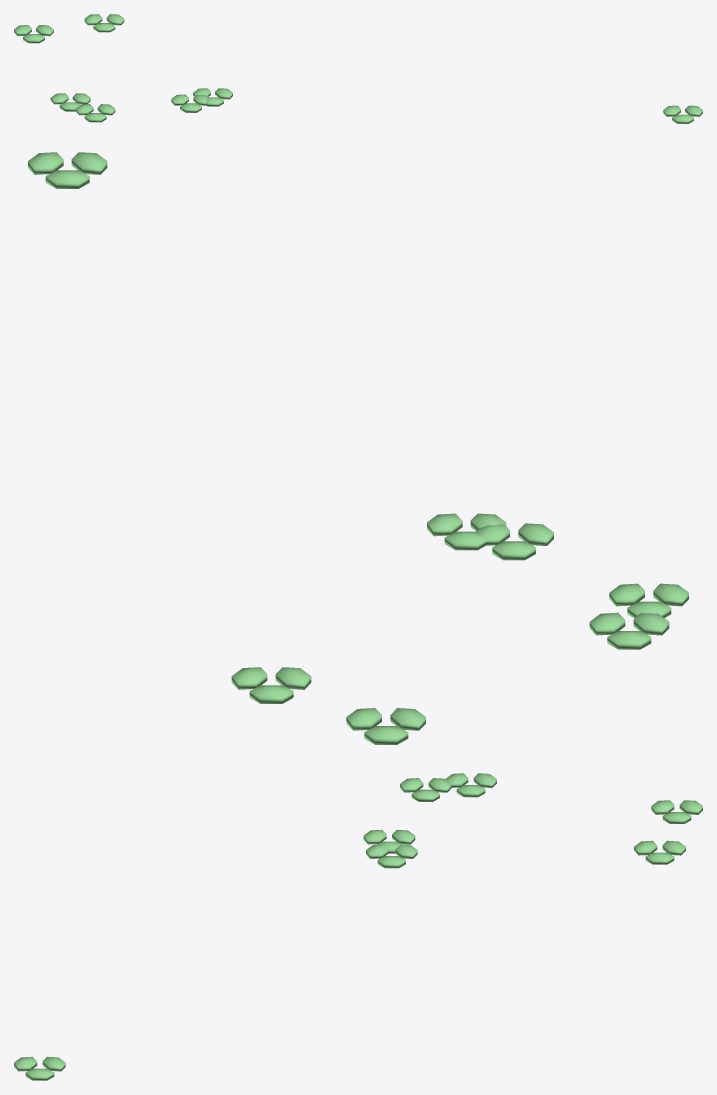
The model's file is layer_summer_sparse_low.glb.
3 views of the same model, one above another, from view 1: azimuth 30°, elevation 25°; view 2: azimuth 150°, elevation 25°; view 3: azimuth 270°, elevation 25° (orthographic). The views are drawn at different scales.
Bounding box in the file's own units: 2.61 × 0.035 × 2.51.
